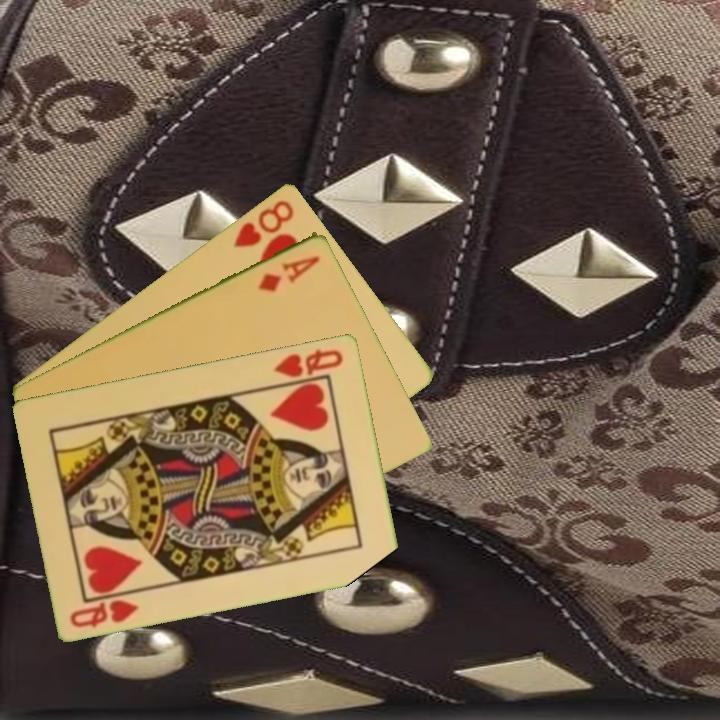8h: (230, 195, 297, 251)
Ad: (255, 251, 323, 294)
Qh: (270, 345, 346, 380), (66, 595, 142, 630)
